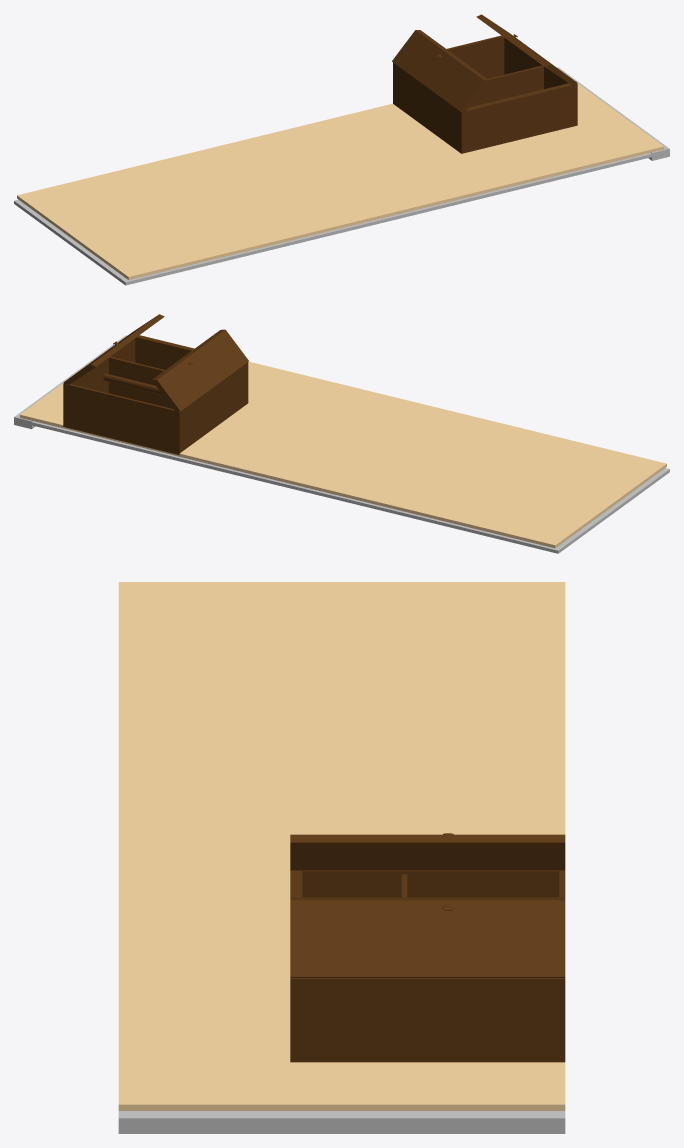
File: tinker.obj
3 renders of one model, top to bottom at view 1: azimuth 30°, elevation 25°; view 2: azimuth 150°, elevation 25°; view 3: azimuth 270°, elevation 25°, orthographic. The views are drawn at different scales.
Visible parts, largest first — view 1: group_0_16768422, group_0_6306067, group_0_2719057; view 2: group_0_16768422, group_0_6306067, group_0_2719057; view 3: group_0_16768422, group_0_6306067, group_0_2719057.
Boxes of the visible parts, left/top/right/bottom form: group_0_16768422: left=17, top=83, right=663, bottom=279; group_0_6306067: left=392, top=14, right=577, bottom=153; group_0_2719057: left=14, top=67, right=669, bottom=285; group_0_16768422: left=20, top=335, right=666, bottom=548; group_0_6306067: left=63, top=314, right=248, bottom=454; group_0_2719057: left=14, top=335, right=669, bottom=553; group_0_16768422: left=118, top=582, right=565, bottom=1110; group_0_6306067: left=290, top=833, right=565, bottom=1062; group_0_2719057: left=118, top=1111, right=565, bottom=1133.
Size of the model in its own units: 183 by 25.64 by 65.
